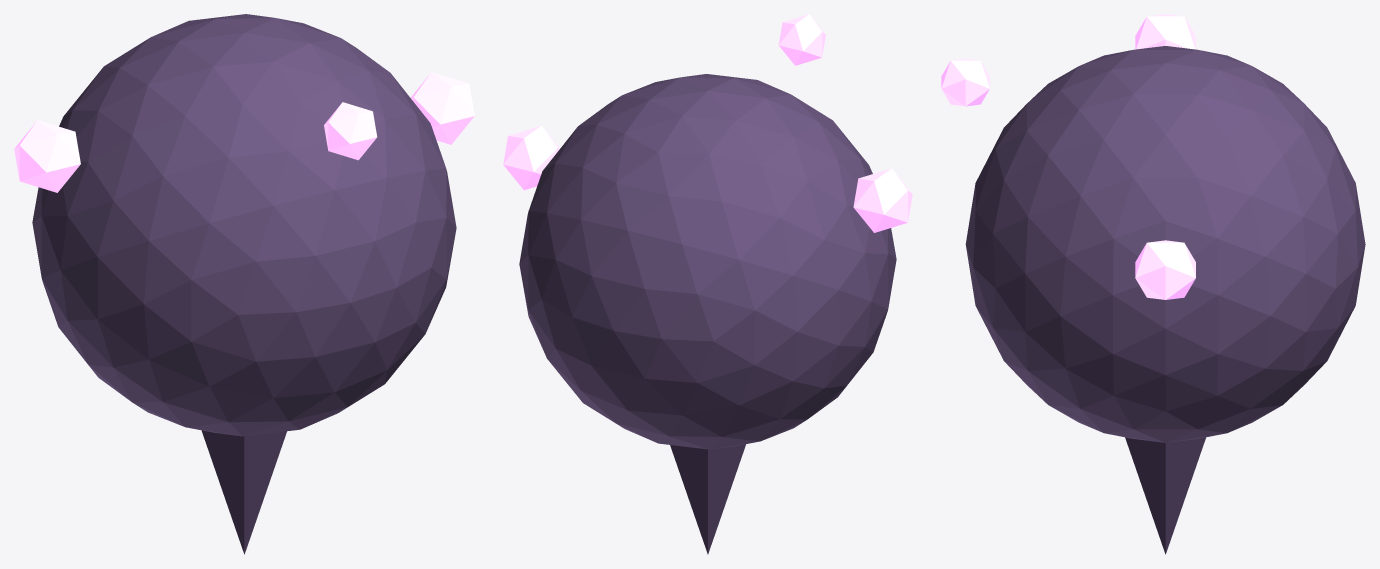
Rendered from mob_void_wisp.glb.
3 renders of one model, left to right at view 1: azimuth 30°, elevation 25°; view 2: azimuth 150°, elevation 25°; view 3: azimuth 270°, elevation 25°, orthographic. The views are drawn at different scales.
Parts seen in each view (by area): view 1: mob_void_wisp_00, mob_void_wisp_02, mob_void_wisp_03, mob_void_wisp_04, mob_void_wisp_05; view 2: mob_void_wisp_00, mob_void_wisp_02, mob_void_wisp_03, mob_void_wisp_04, mob_void_wisp_05; view 3: mob_void_wisp_00, mob_void_wisp_02, mob_void_wisp_04, mob_void_wisp_05, mob_void_wisp_03.
Boxes of the visible parts, x1=… form: mob_void_wisp_00: x1=32, y1=14, x2=456, y2=436; mob_void_wisp_02: x1=201, y1=430, x2=286, y2=554; mob_void_wisp_03: x1=14, y1=120, x2=80, y2=192; mob_void_wisp_04: x1=411, y1=72, x2=474, y2=144; mob_void_wisp_05: x1=324, y1=102, x2=377, y2=160; mob_void_wisp_00: x1=519, y1=74, x2=896, y2=449; mob_void_wisp_02: x1=670, y1=444, x2=745, y2=554; mob_void_wisp_03: x1=853, y1=168, x2=912, y2=232; mob_void_wisp_04: x1=503, y1=125, x2=559, y2=190; mob_void_wisp_05: x1=778, y1=14, x2=825, y2=65; mob_void_wisp_00: x1=965, y1=46, x2=1365, y2=442; mob_void_wisp_02: x1=1125, y1=437, x2=1205, y2=554; mob_void_wisp_04: x1=1135, y1=240, x2=1195, y2=299; mob_void_wisp_05: x1=941, y1=58, x2=989, y2=106; mob_void_wisp_03: x1=1135, y1=14, x2=1195, y2=49.
Size of the model in its own units: 0.6851 by 0.764 by 0.594.
